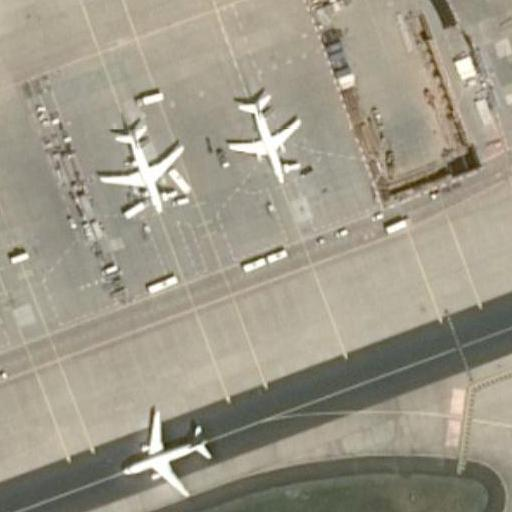Aircraft: (109, 404, 228, 506), (211, 88, 314, 181), (100, 120, 184, 227)
